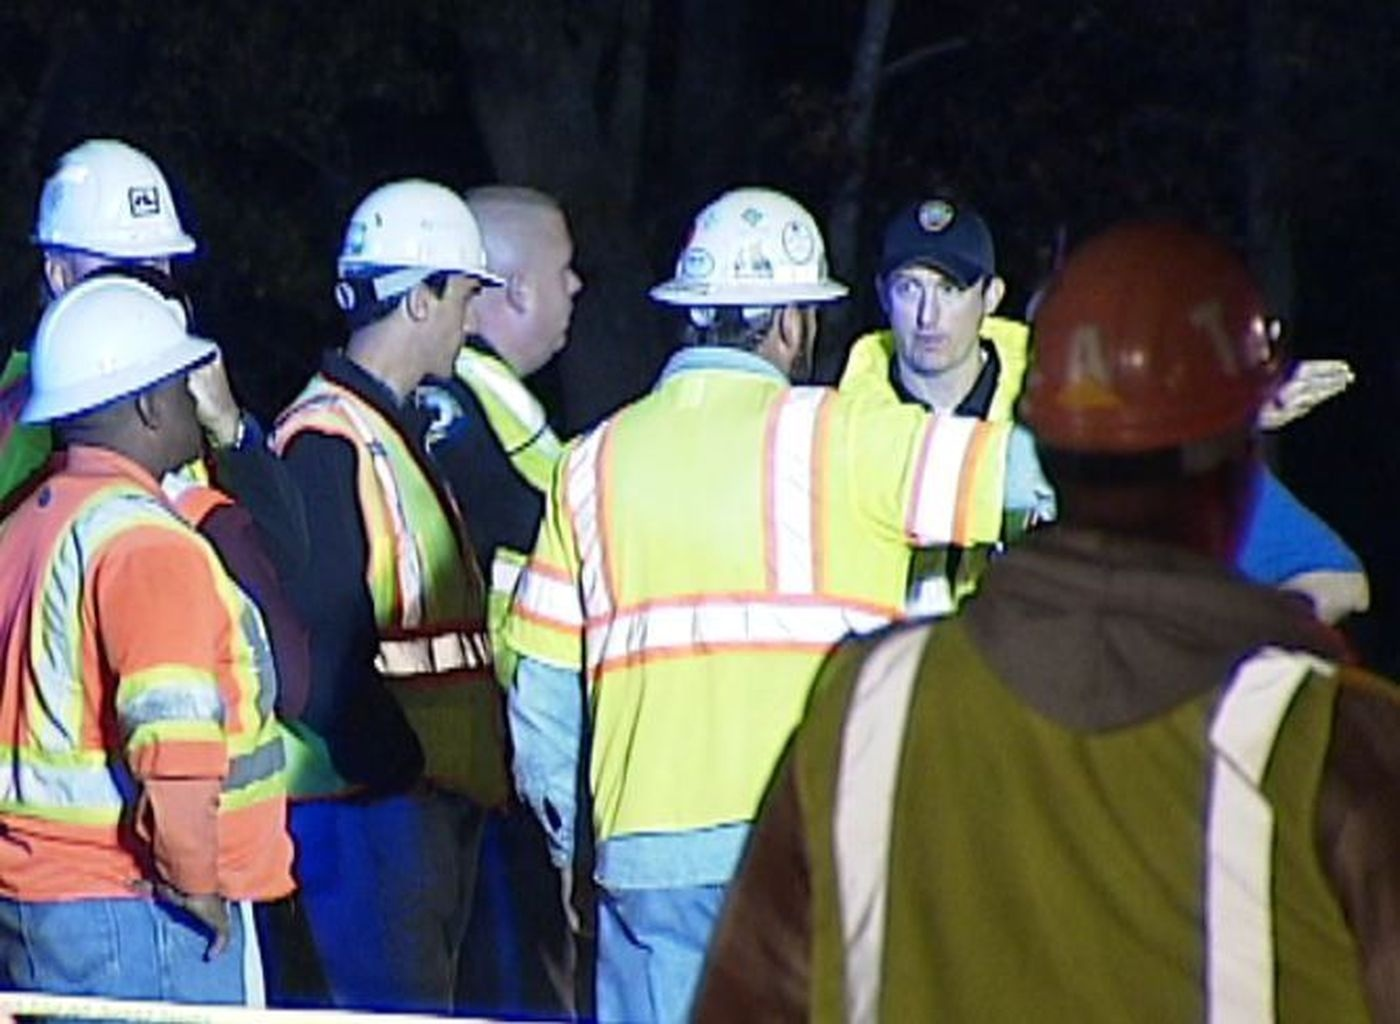none: (459, 174, 582, 374), (870, 196, 998, 373)
red: (1014, 218, 1272, 549)
white: (32, 276, 211, 480), (327, 179, 492, 376), (668, 183, 823, 372), (36, 139, 192, 294)
